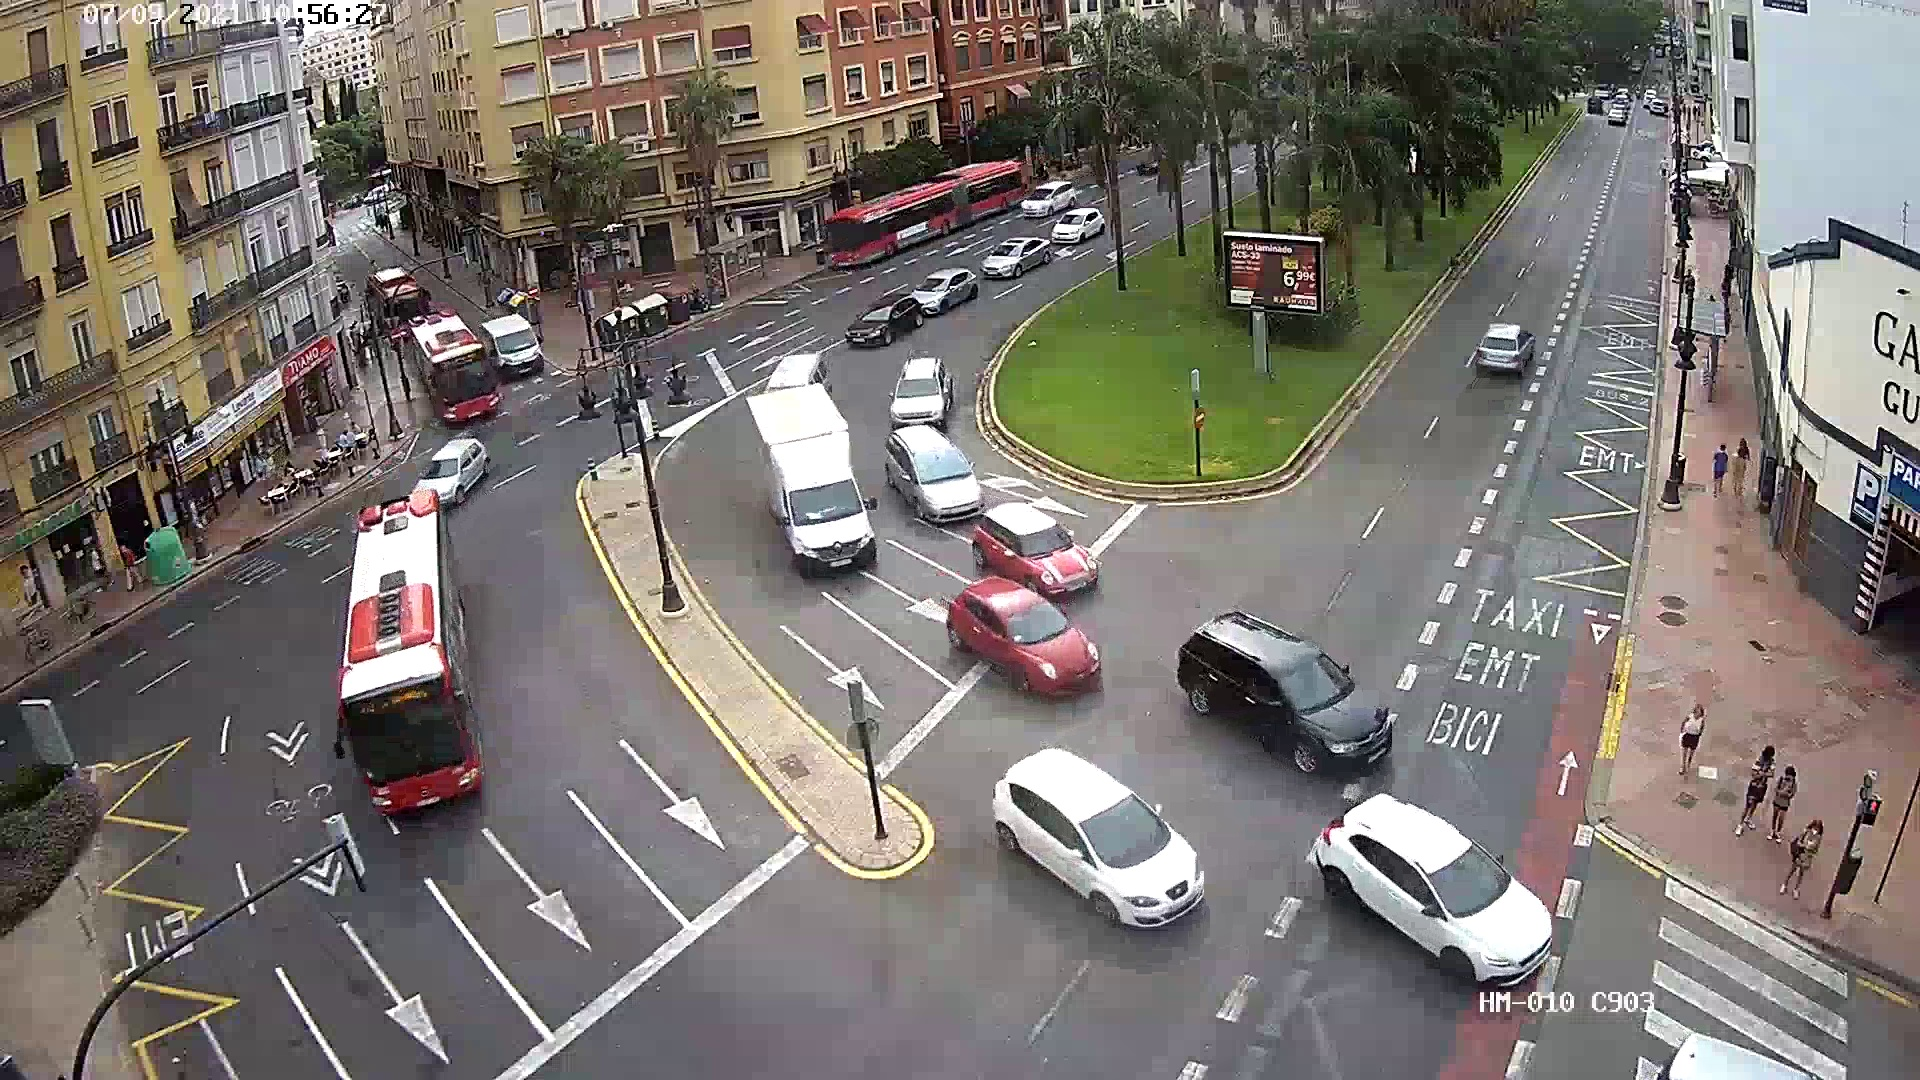Cars: (942, 744, 1225, 932), (1303, 796, 1578, 986), (1176, 591, 1387, 770), (938, 582, 1116, 698), (968, 498, 1101, 604), (872, 426, 1000, 527), (880, 357, 978, 433), (410, 433, 495, 506), (1462, 309, 1545, 382), (841, 298, 928, 353), (976, 236, 1047, 280)
